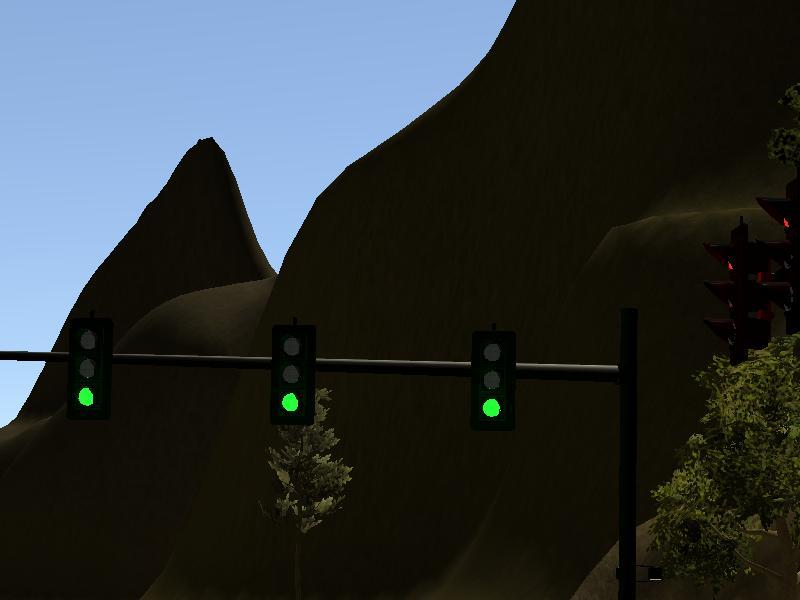Green: (63, 327, 107, 420), (271, 325, 309, 423), (475, 335, 512, 424)
